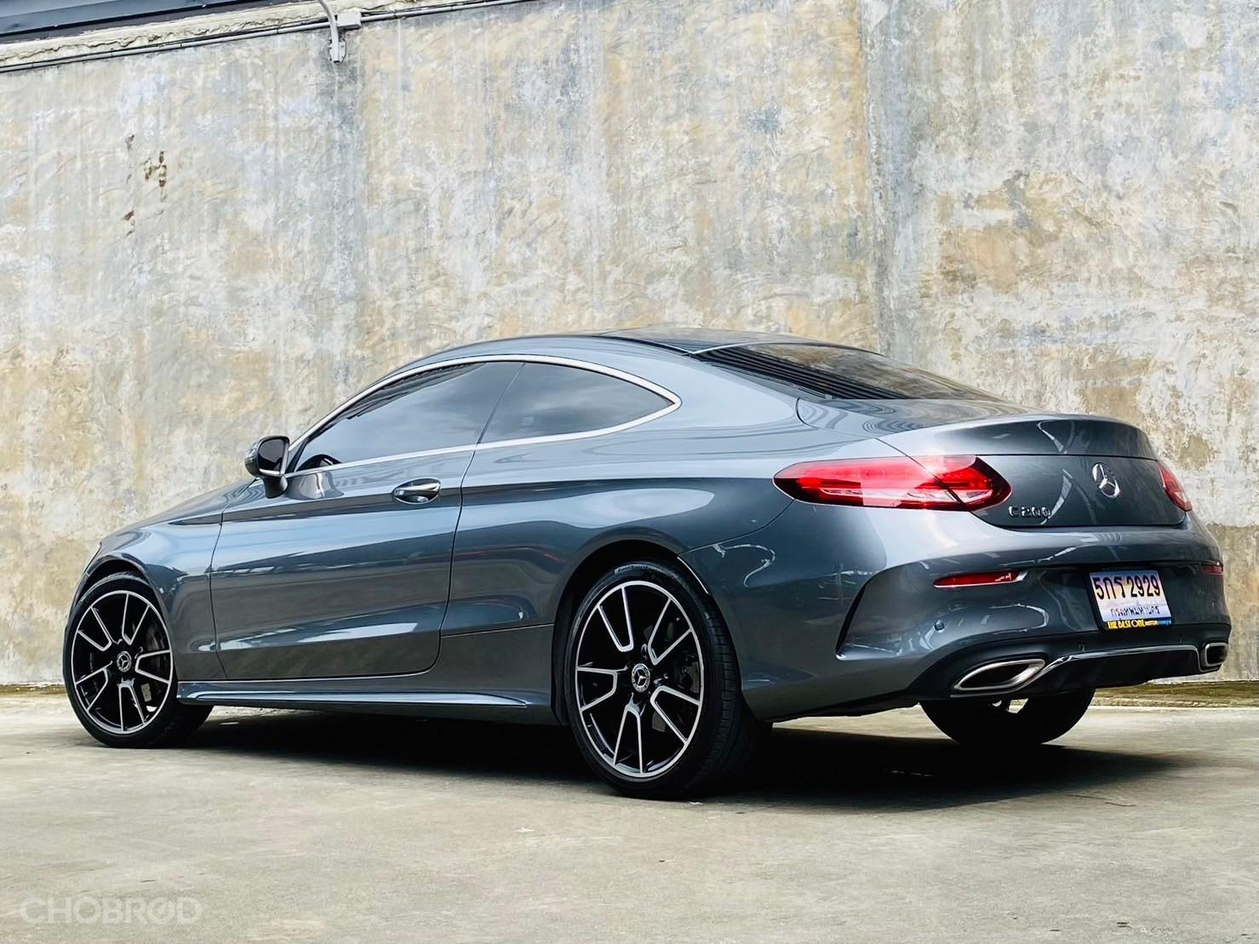license-plate: (1088, 565, 1178, 634)
